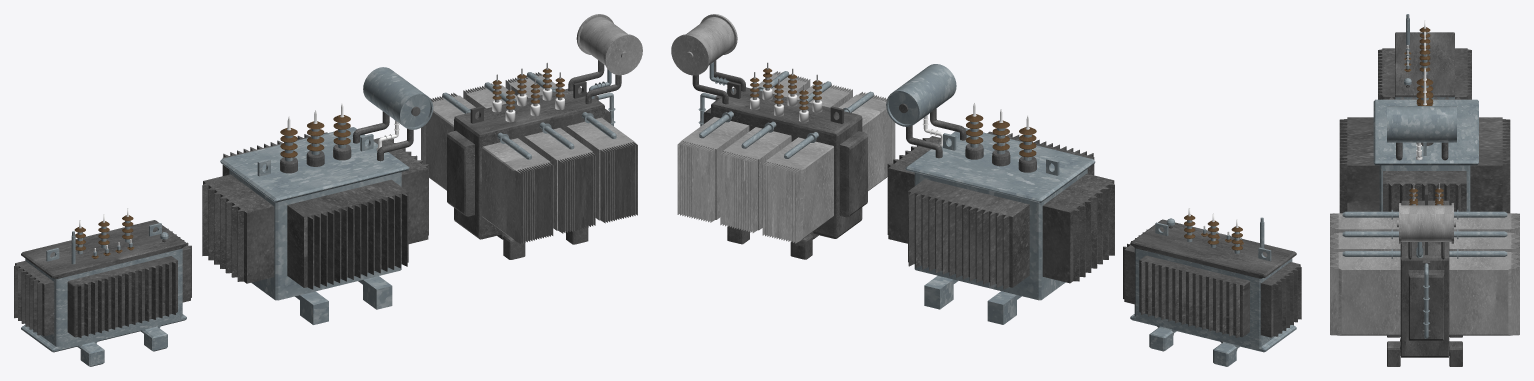
File: transformers.glb
3 views of the same model, side by side, from view 1: azimuth 30°, elevation 25°; view 2: azimuth 150°, elevation 25°; view 3: azimuth 270°, elevation 25° (orthographic). The views are drawn at different scales.
Parts seen in each view (by area): view 1: Hight Voltage Transformer 2_1, High Voltage Transformer 3_2, High Voltage Transformer 1_0; view 2: Hight Voltage Transformer 2_1, High Voltage Transformer 3_2, High Voltage Transformer 1_0; view 3: High Voltage Transformer 3_2, Hight Voltage Transformer 2_1, High Voltage Transformer 1_0.
Part boxes in pixels (bbox=[...]): Hight Voltage Transformer 2_1: bbox=[202, 67, 433, 324]; High Voltage Transformer 3_2: bbox=[421, 14, 642, 259]; High Voltage Transformer 1_0: bbox=[14, 208, 191, 366]; Hight Voltage Transformer 2_1: bbox=[886, 64, 1114, 324]; High Voltage Transformer 3_2: bbox=[671, 14, 895, 259]; High Voltage Transformer 1_0: bbox=[1123, 208, 1301, 366]; High Voltage Transformer 3_2: bbox=[1330, 183, 1519, 366]; Hight Voltage Transformer 2_1: bbox=[1339, 67, 1510, 213]; High Voltage Transformer 1_0: bbox=[1378, 14, 1471, 99].
Size of the model in its own units: 285 by 86.15 by 81.66.
Materials: 14 (13 with a texture image).
